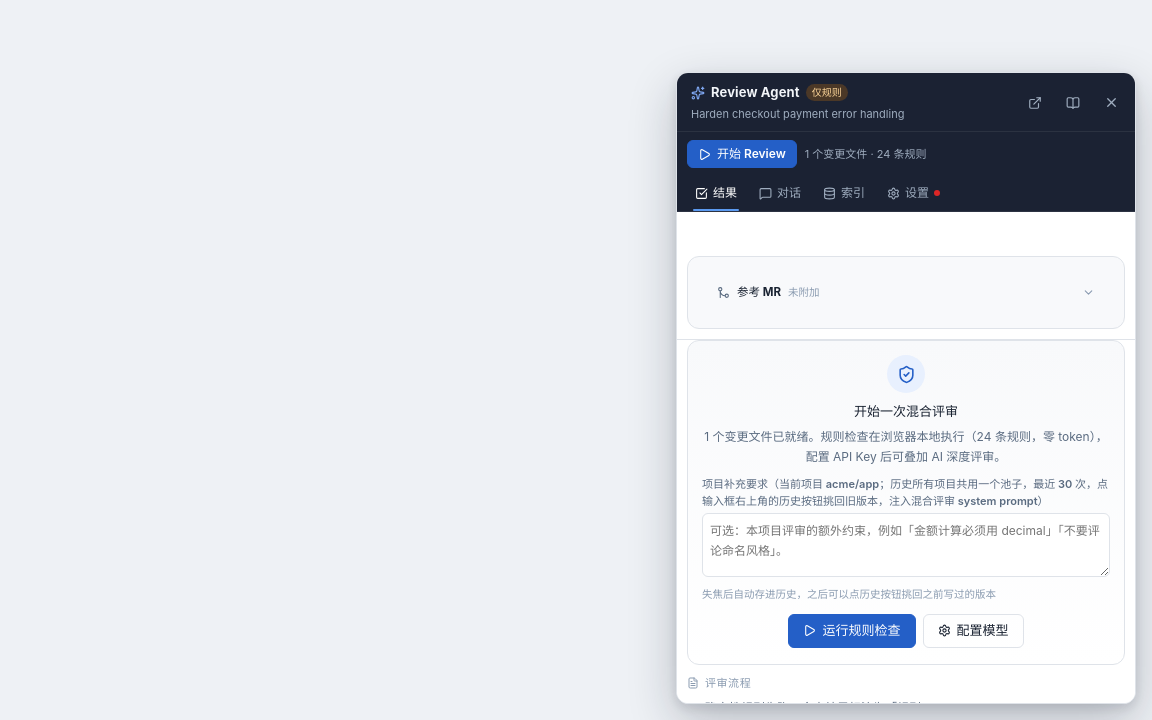
Scenario: 行内位置 409 不再直接降级全文：重拉 diff_refs 重锚后重发 › push 把代码整个改掉：重锚救不回来才降级全文，文案说明「MR 已更新，已尝试重锚」
Click the button "开始 Review": (742, 154) [687, 140, 797, 168]
(page scrolled)
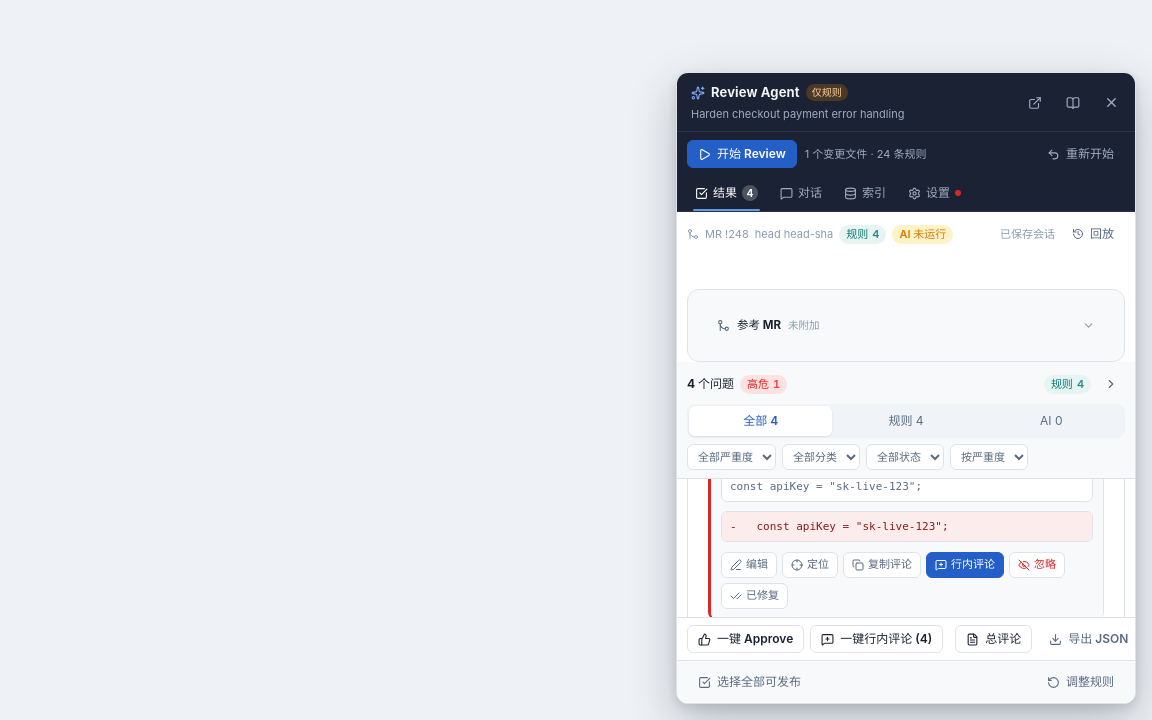
Click the button "行内评论": (965, 565) [926, 552, 1004, 578]
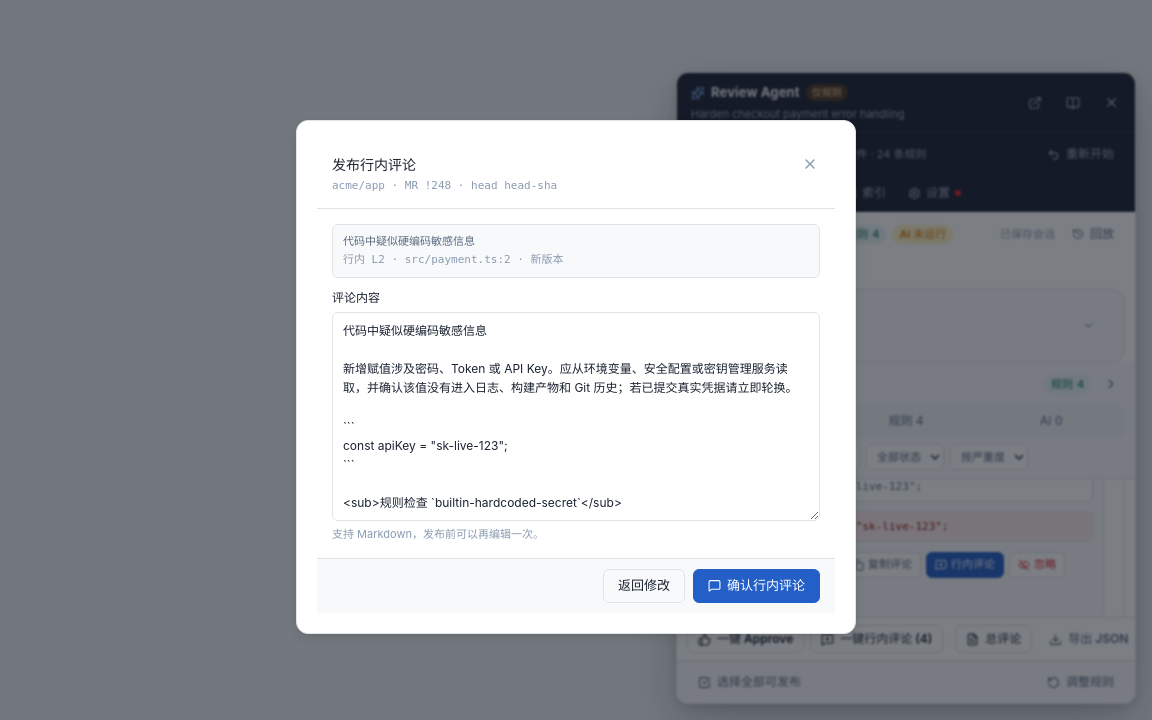
Click the button "确认行内评论": (756, 586) [693, 569, 820, 603]
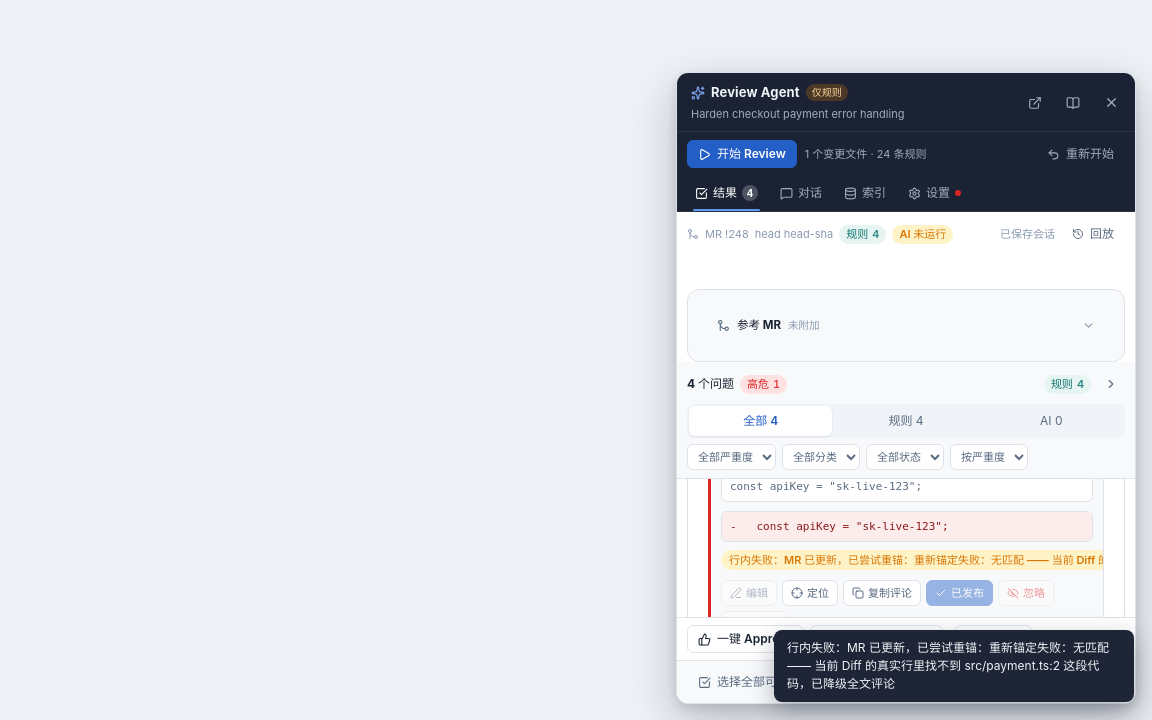
Check: the message shows "已降级全文评论", box [787, 640, 1109, 691]
Check: the message shows "MR 已更新，已尝试重锚", box [787, 640, 1109, 691]
Check: the message shows "重新锚定失败：无匹配", box [787, 640, 1109, 691]
